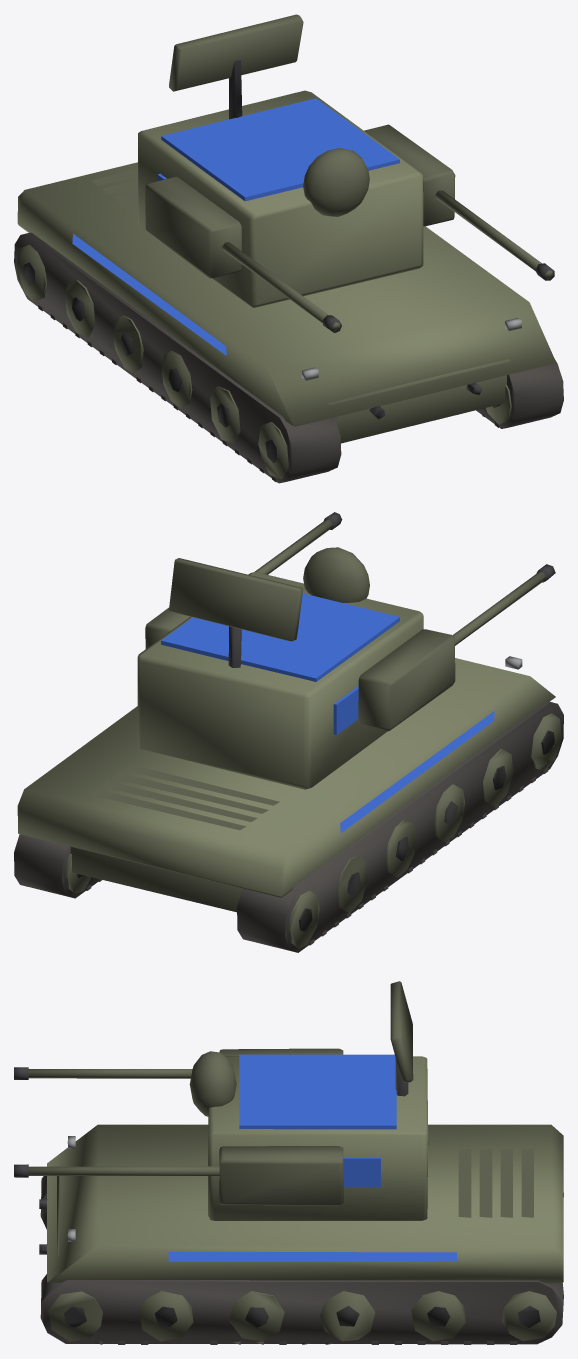
Rendered from aa_vehicle_lod1.glb.
3 views of the same model, one above another, from view 1: azimuth 30°, elevation 25°; view 2: azimuth 150°, elevation 25°; view 3: azimuth 270°, elevation 25° (orthographic). The views are drawn at different scales.
Visible parts, largest first — view 1: hull, turret; view 2: hull, turret; view 3: hull, turret.
Boxes of the visible parts, x1,y1,x2,y2 form: hull: (14, 162, 563, 483); turret: (138, 14, 554, 333); hull: (14, 656, 563, 952); turret: (137, 512, 555, 789); hull: (39, 1124, 563, 1344); turret: (14, 981, 428, 1220).
Bounding box in the file's own units: 2.86 × 2.88 × 5.24.
